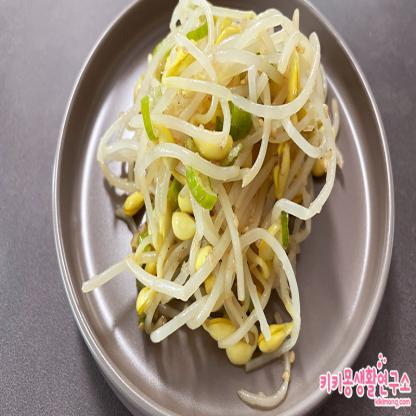bean sprouts: (138, 21, 322, 339)
